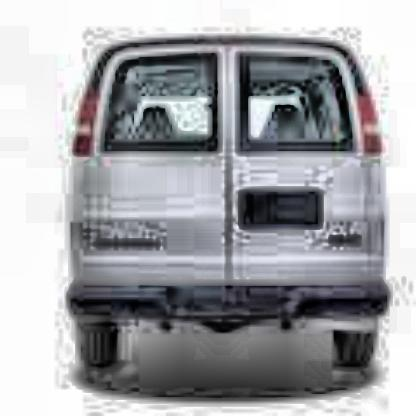GMC Savana Van 2012: (63, 36, 399, 330)
